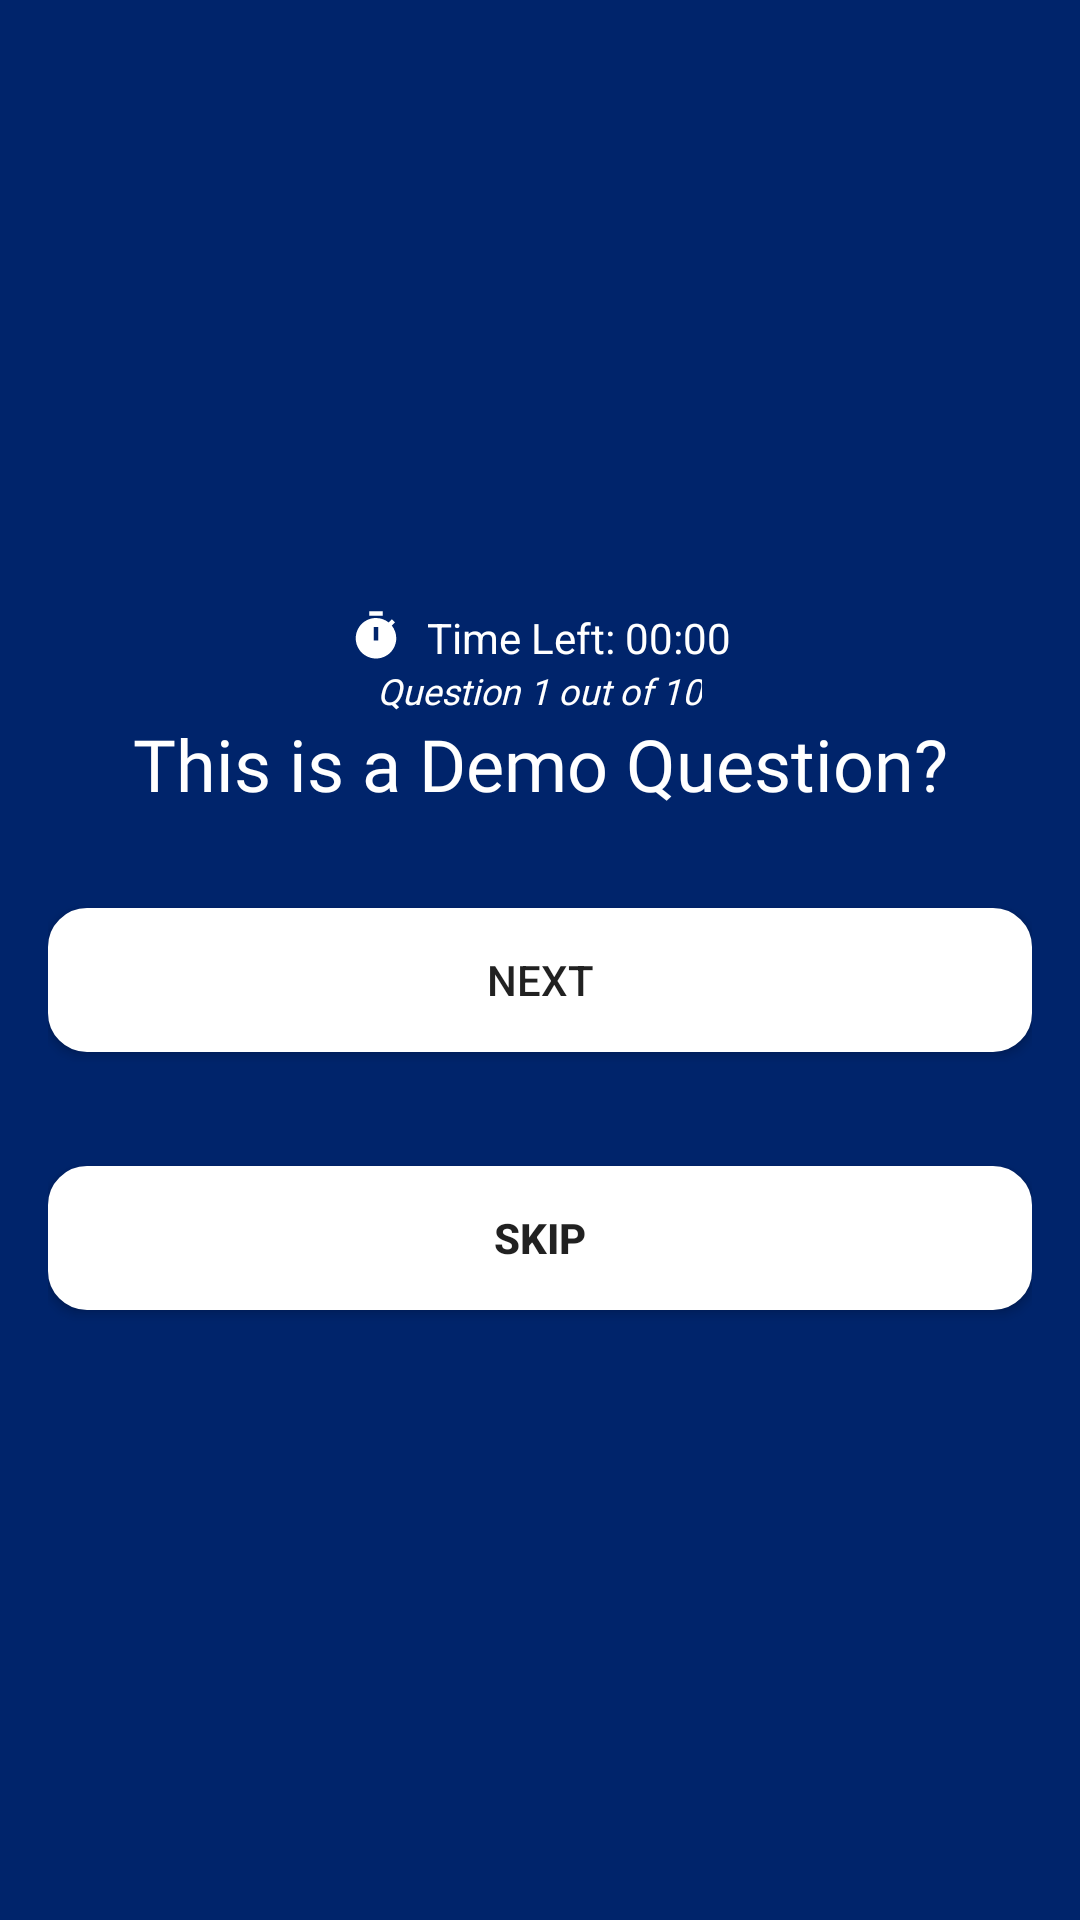

Icon click points for this 1080 × 1920 phone screenshot, format point (x, y):
Timer Icon: point (376, 635)
